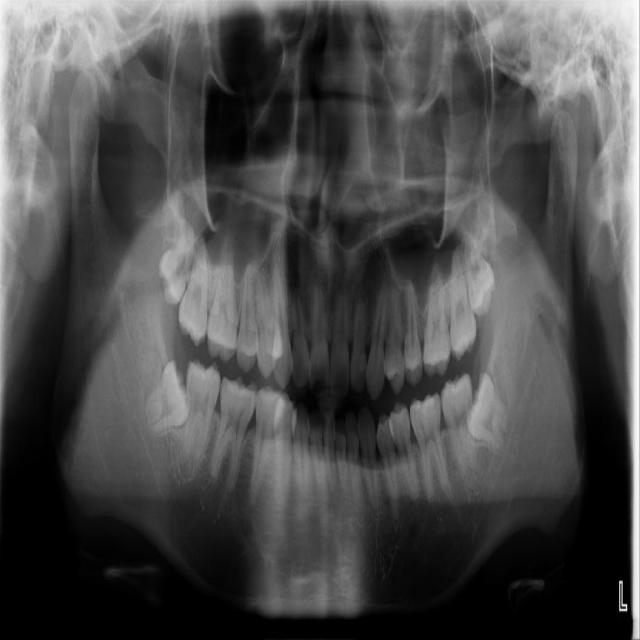3M ESPE Implant: (147, 213, 205, 307)
73: (600, 598, 604, 616)
BioHorizons Implant: (448, 248, 477, 362)
BioLife Implant: (458, 228, 500, 319)
Biomet 3i Implant: (457, 369, 527, 455)
Blue Sky Bio Implant: (437, 370, 485, 479)
Caries: (177, 236, 210, 347)
Implant: (179, 357, 223, 469)
Keystone Dental Implant: (140, 358, 196, 439)
